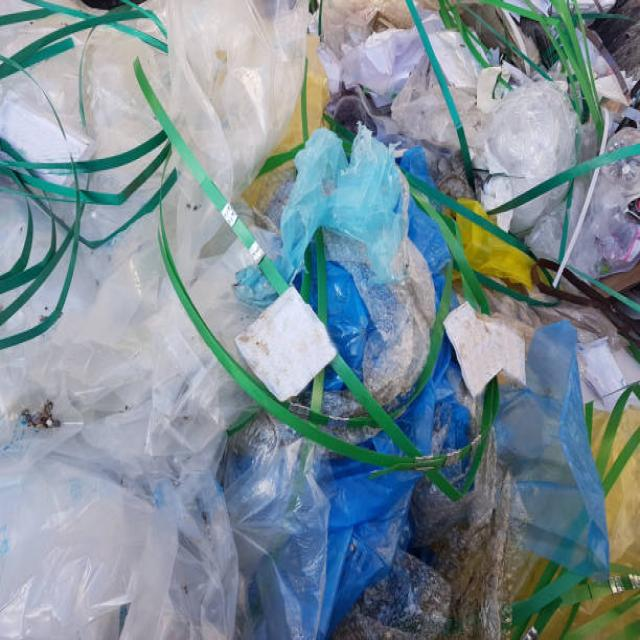plastic: (42, 38, 604, 610)
